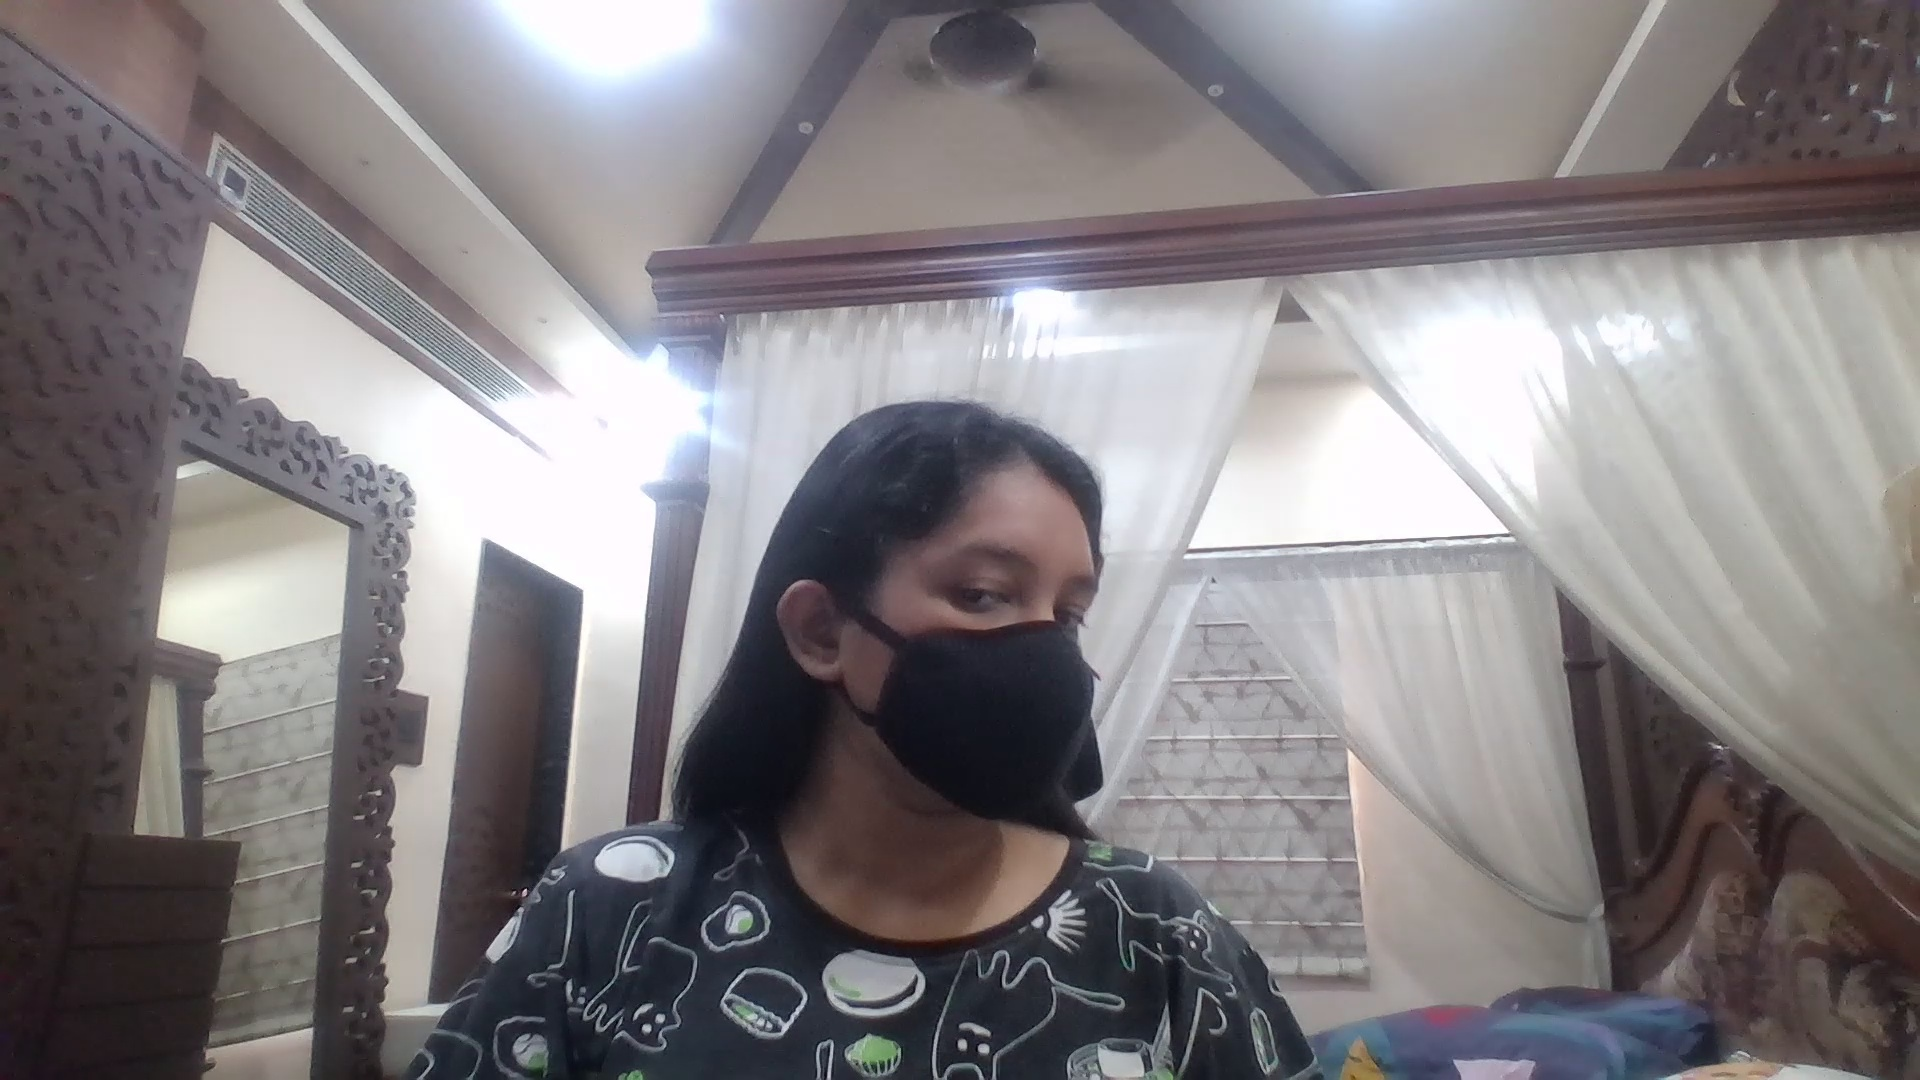Mask: (878, 622, 1115, 817)
